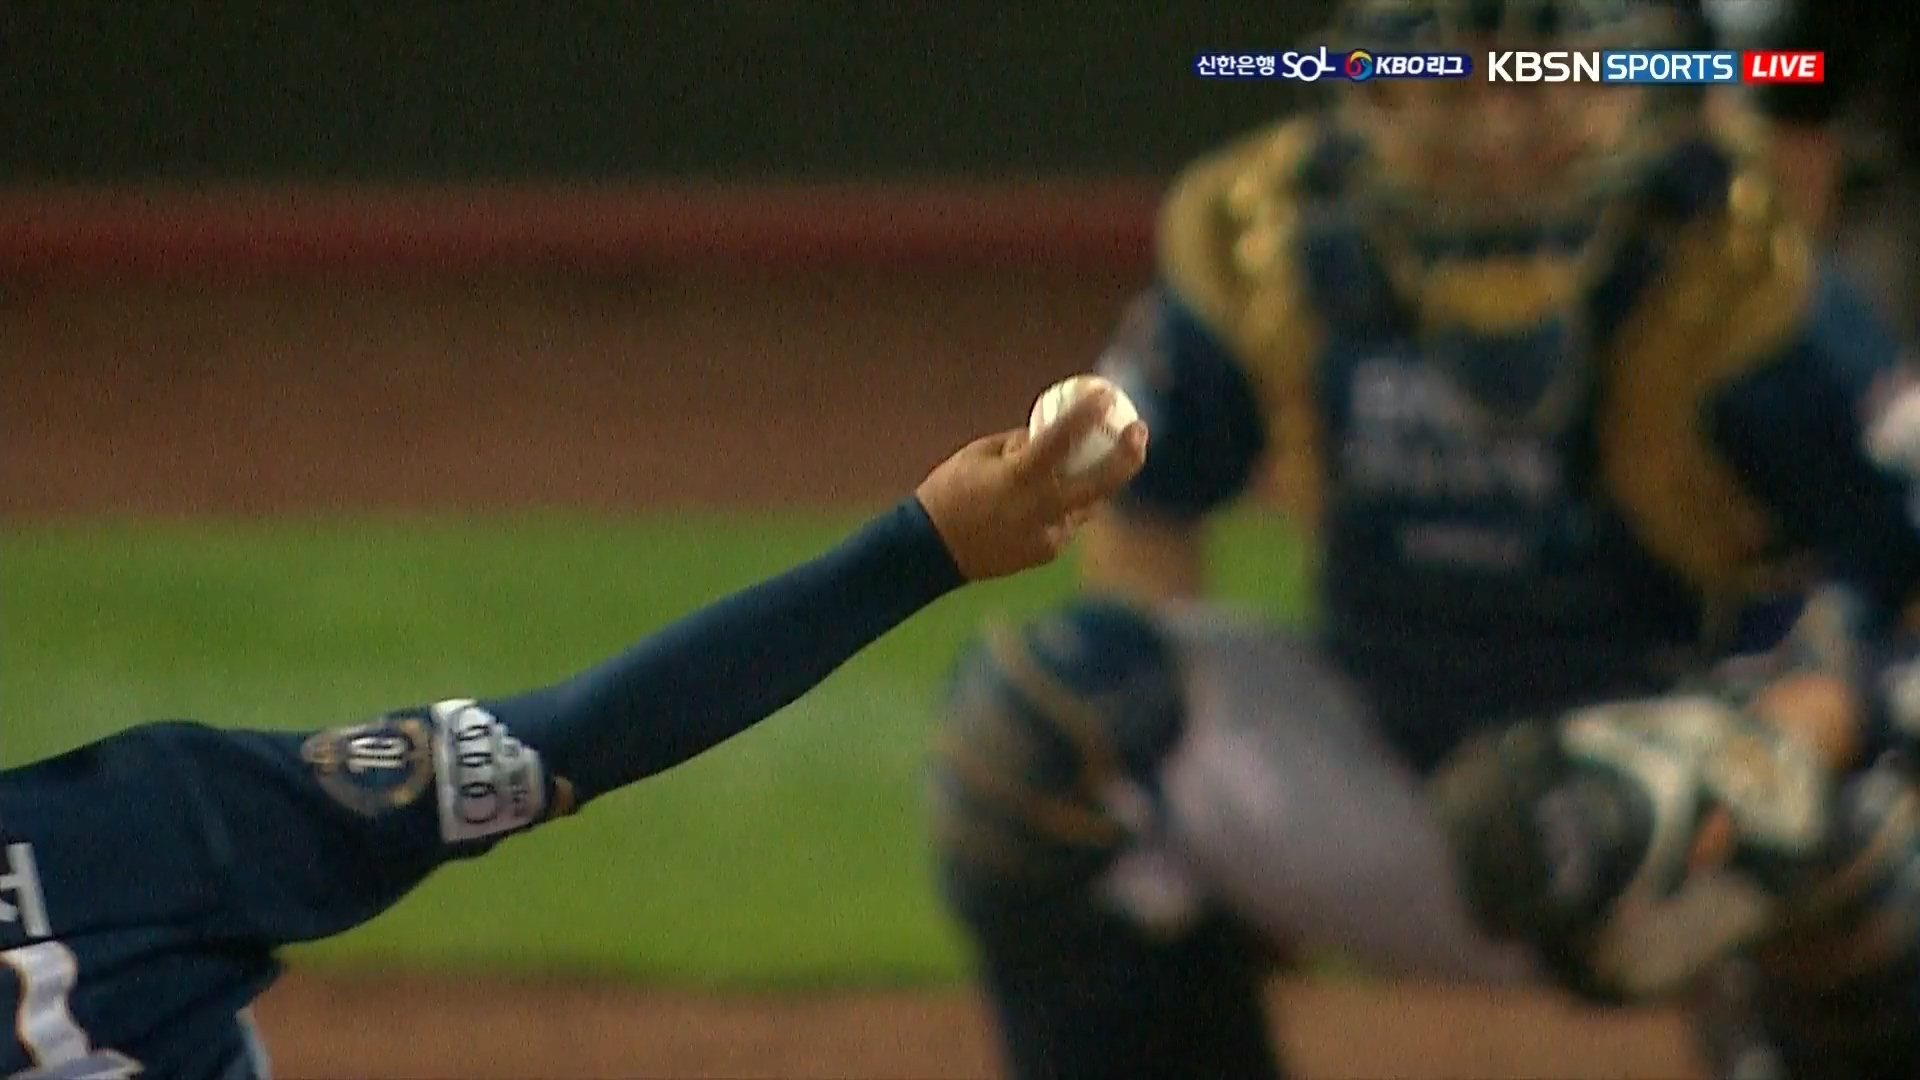zoomin_hand: (547, 368, 1160, 815)
